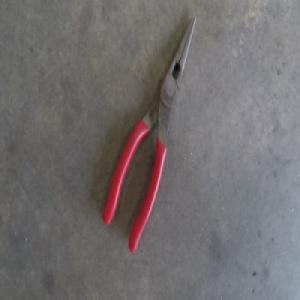Pliers: (105, 16, 195, 250)
